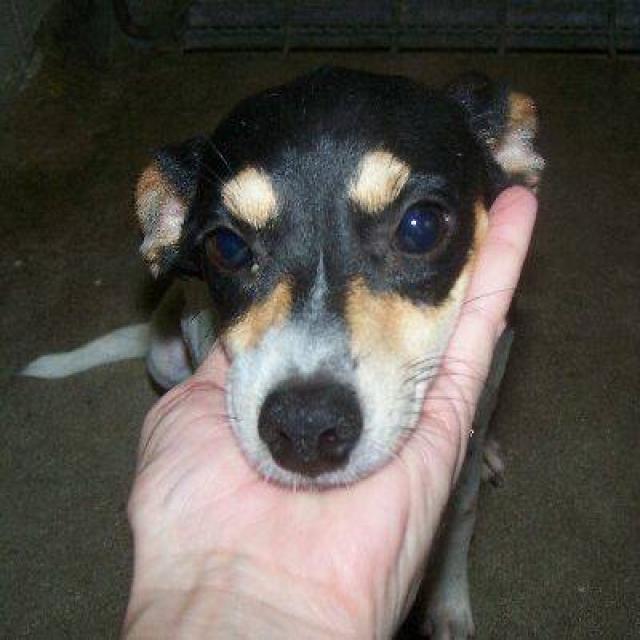dog: (14, 62, 546, 638)
